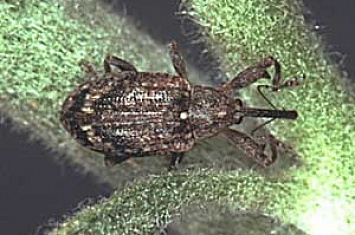dolgonosik: (62, 42, 310, 178)
